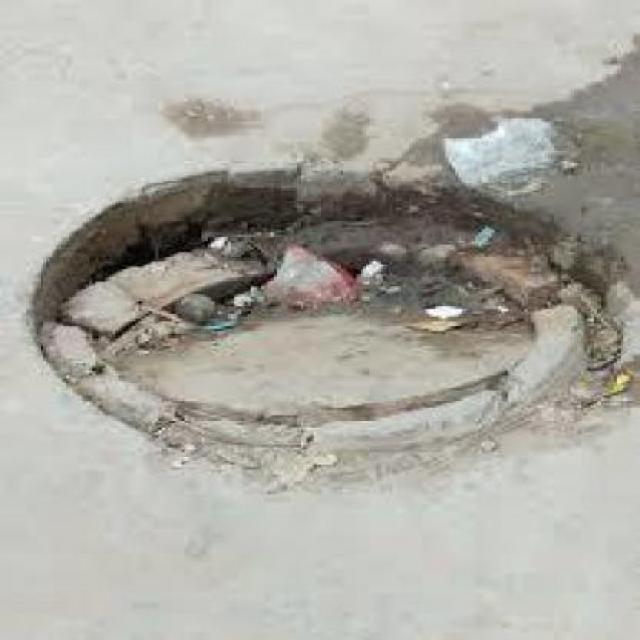Manhole: (15, 158, 640, 464)
